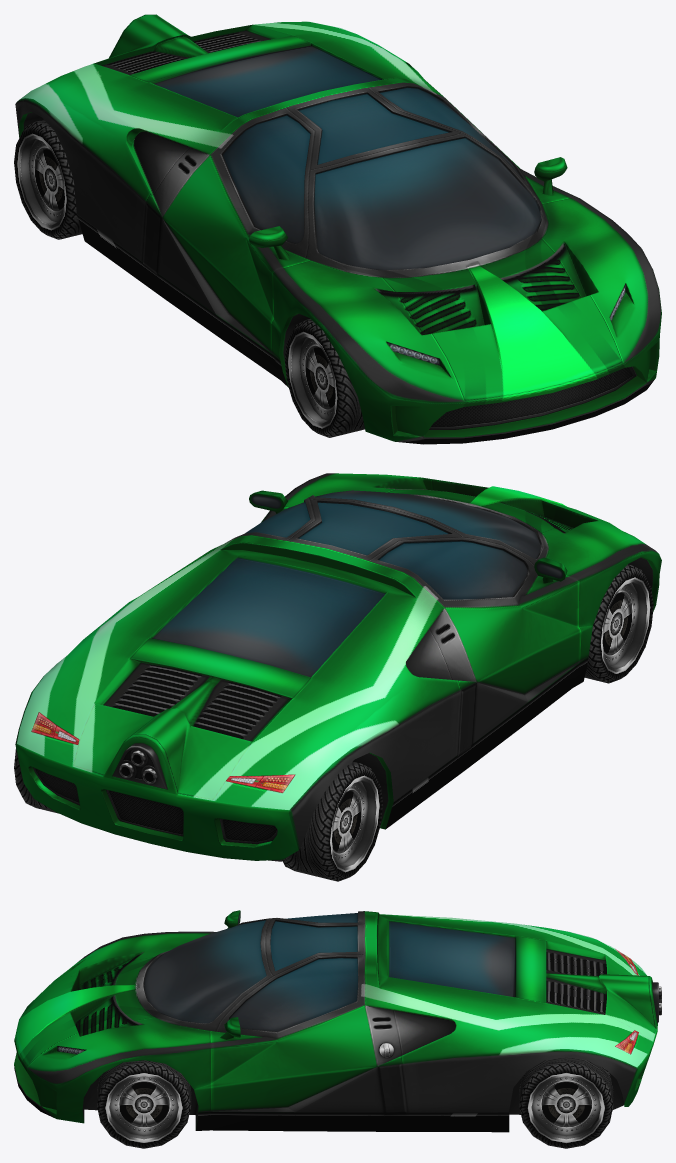
The picture shows the model from 3 angles, top to bottom: view 1: azimuth 30°, elevation 25°; view 2: azimuth 150°, elevation 25°; view 3: azimuth 270°, elevation 25°; orthographic projection. The views are drawn at different scales.
Visible parts, largest first — view 1: player_chassis, veh_wheel_fr, veh_wheel_b; view 2: player_chassis, veh_wheel_b, veh_wheel_fr; view 3: player_chassis, veh_wheel_b, veh_wheel_fl.
Part boxes in pixels (x1,y1,x2,y2): player_chassis: (15,14,661,444); veh_wheel_fr: (284,319,364,437); veh_wheel_b: (14,119,82,239); player_chassis: (15,473,661,861); veh_wheel_b: (14,748,382,881); veh_wheel_fr: (584,564,653,683); player_chassis: (14,910,661,1132); veh_wheel_b: (519,1057,613,1148); veh_wheel_fl: (97,1060,191,1148).
Size of the model in its own units: 199 by 118 by 449.
